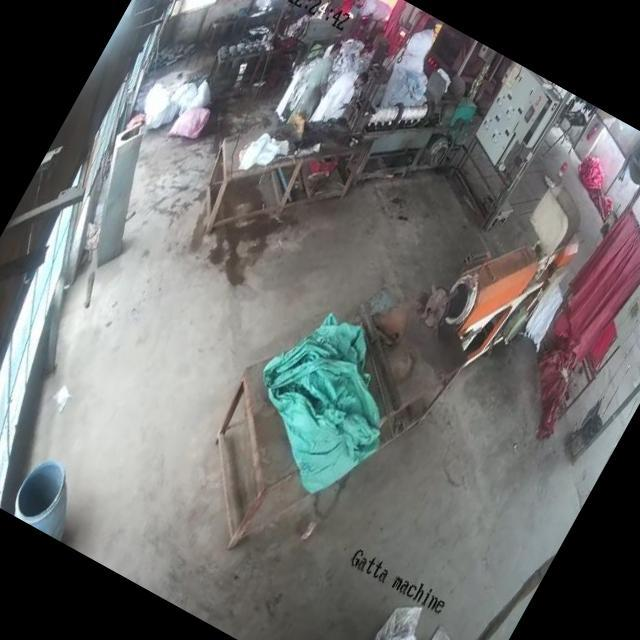person: (314, 60, 372, 130), (300, 38, 351, 112)
